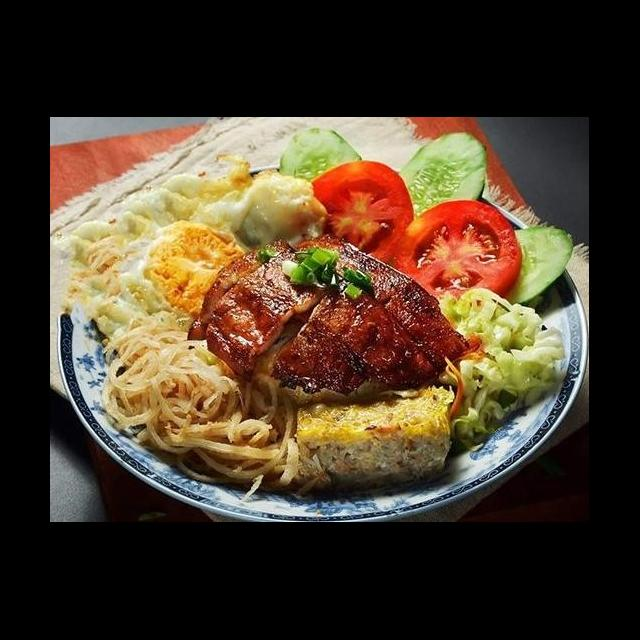bi: (97, 314, 300, 502)
suon: (186, 232, 474, 400)
trung: (59, 158, 332, 352), (292, 382, 458, 498)
